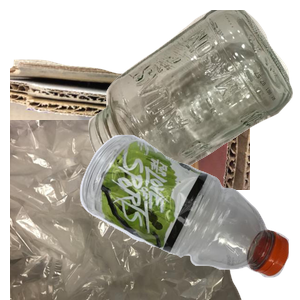cardboard: (10, 57, 250, 237)
glass: (86, 10, 300, 184)
plastic: (77, 132, 300, 300)
trash: (10, 120, 244, 300)
